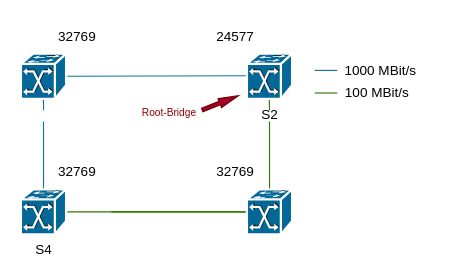
Image size: 450x277. Some labels were removed from this diagram. The centre of each missing label's shape, as x and y in pixels:
S1: (x=43, y=75)
S3: (x=269, y=211)
